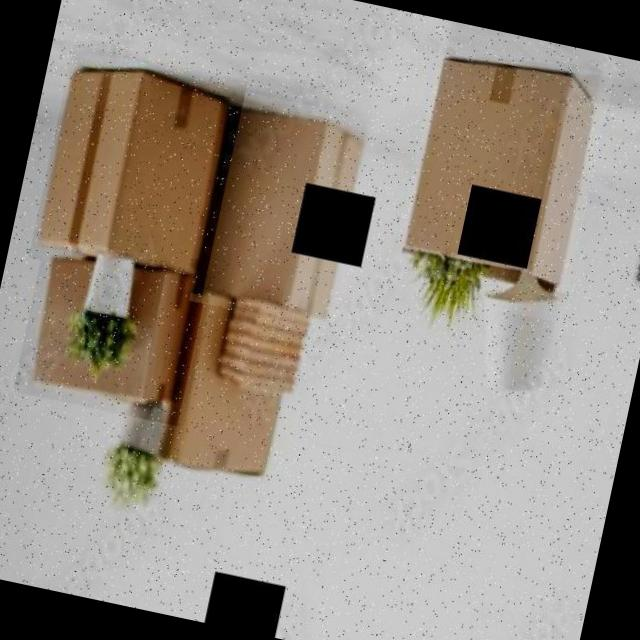box: (387, 38, 614, 323), (28, 43, 248, 294), (188, 88, 382, 332), (144, 256, 317, 500), (12, 227, 212, 426)
